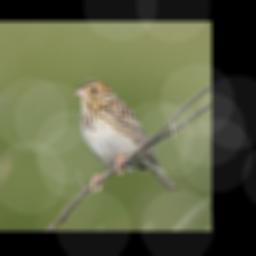Sparrow: (75, 77, 180, 192)
